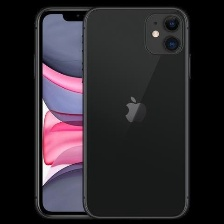phone: (80, 2, 191, 221), (33, 3, 134, 219)
